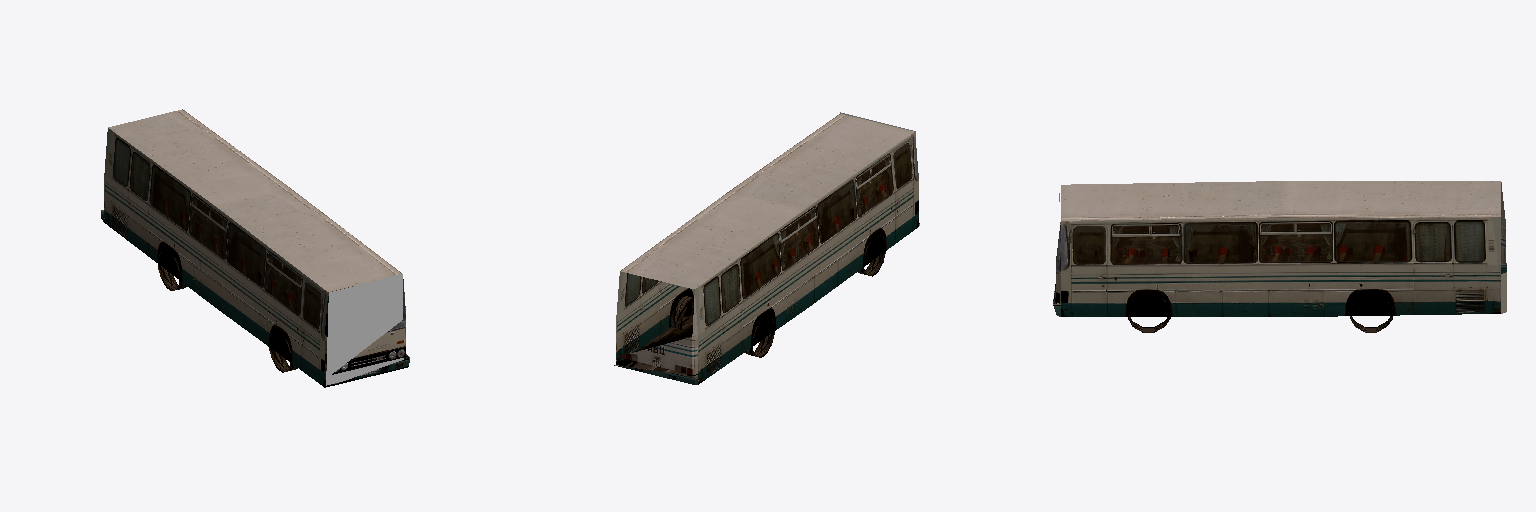
The picture shows the model from 3 angles: view 1: azimuth 30°, elevation 25°; view 2: azimuth 150°, elevation 25°; view 3: azimuth 270°, elevation 25°; orthographic projection.
Visible parts, largest first — view 1: bus, Vert.003; view 2: bus; view 3: bus.
Boxes of the visible parts, x1=… form: bus: x1=101, y1=109, x2=409, y2=387; Vert.003: x1=326, y1=274, x2=403, y2=385; bus: x1=614, y1=114, x2=919, y2=384; bus: x1=1053, y1=181, x2=1506, y2=332.
Bounding box in the file's own units: 2.45 × 3.17 × 11.55.
Materials: 6 (6 with a texture image).